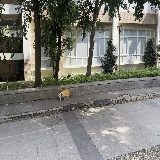fire: (61, 89, 72, 99)
